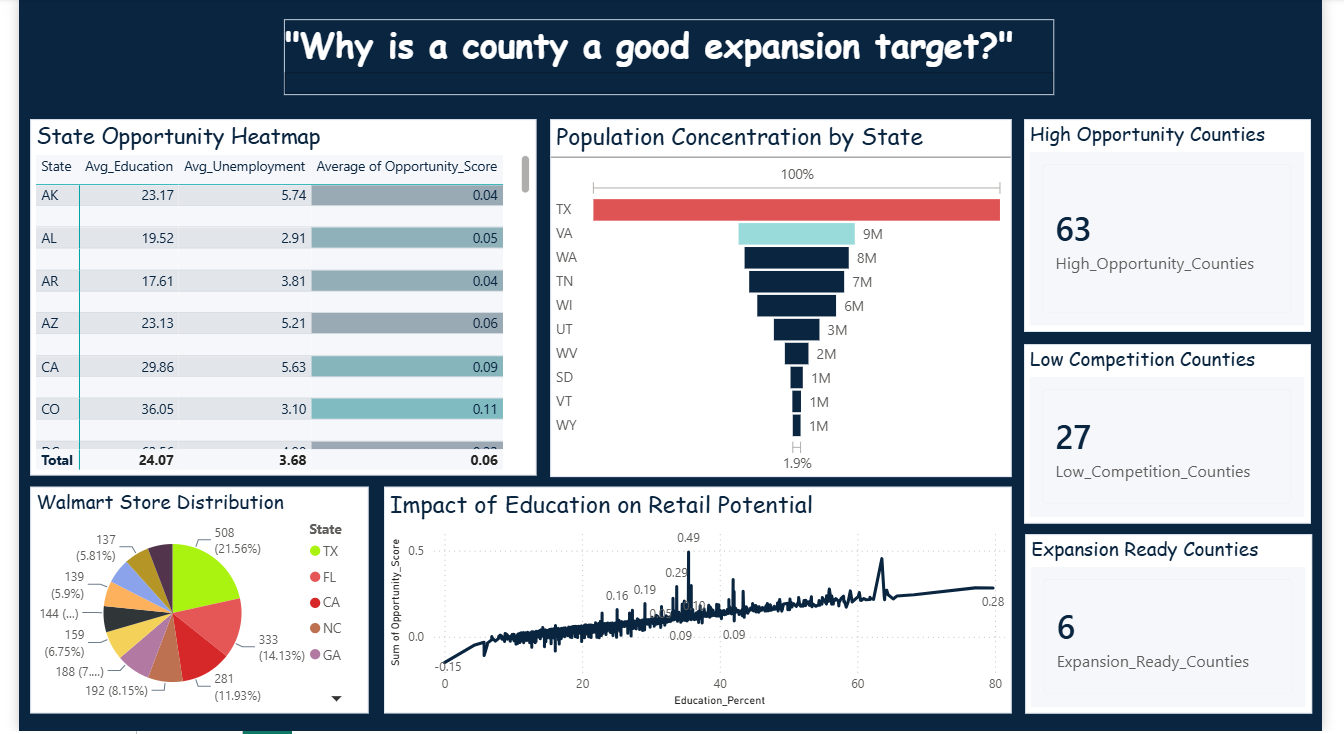

This screenshot's page, from the dashboard's own definition file:
{"tool":"powerbi","page":{"name":"Analysis","canvas":[1280,720],"ordinal":1},"visuals":[{"type":"shape","title":"\"Why is a county a good expansion target?\"","box":[260.7,20.6,756.1,74.1],"z":0},{"type":"pivotTable","title":"State Opportunity Heatmap","fields":{"Rows":["retail_opportunity_final.State"],"Values":["RetailData.Avg_Education","RetailData.Avg_Unemployment","Avg(retail_opportunity_final.Opportunity_Score)"]},"box":[11,119.4,496.7,349.9],"z":1},{"type":"funnel","title":"Population Concentration by State","fields":{"Category":["retail_opportunity_final.State"],"Y":["Sum(retail_opportunity_final.Population_2023)"]},"box":[521.4,119.4,452.8,351.3],"z":2},{"type":"cardVisual","title":"High Opportunity Counties","fields":{"Data":["RetailData.High_Opportunity_Counties"]},"box":[986.6,119.4,281.3,208.6],"z":3},{"type":"cardVisual","title":"Low Competition Counties","fields":{"Data":["RetailData.Low_Competition_Counties"]},"box":[986.6,340.3,281.3,175.6],"z":4},{"type":"cardVisual","title":"Expansion Ready Counties","fields":{"Data":["RetailData.Expansion_Ready_Counties"]},"box":[988,526.9,281.3,175.6],"z":5},{"type":"pieChart","title":"Walmart Store Distribution","fields":{"Category":["retail_opportunity_final.State"],"Y":["Max(retail_opportunity_final.Walmart_Count)"]},"box":[11,480.3,332.1,222.3],"z":6},{"type":"lineChart","title":"Impact of Education on Retail Potential","fields":{"Category":["retail_opportunity_final.Education_Percent"],"Y":["Sum(retail_opportunity_final.Opportunity_Score)"]},"box":[358.1,480.3,616.1,222.3],"z":7}]}

Visuals, with their boxes in screenshot pixels (x1, y1, x2, y2), scaled from the page's 1280x720 canvas onto the 1344x734 screenshot:
""Why is a county a good expansion target?"" shape: select_region(274, 21, 1068, 97)
"State Opportunity Heatmap" pivotTable: select_region(12, 122, 533, 478)
"Population Concentration by State" funnel: select_region(547, 122, 1023, 480)
"High Opportunity Counties" cardVisual: select_region(1036, 122, 1331, 334)
"Low Competition Counties" cardVisual: select_region(1036, 347, 1331, 526)
"Expansion Ready Counties" cardVisual: select_region(1037, 537, 1333, 716)
"Walmart Store Distribution" pieChart: select_region(12, 490, 360, 716)
"Impact of Education on Retail Potential" lineChart: select_region(376, 490, 1023, 716)
